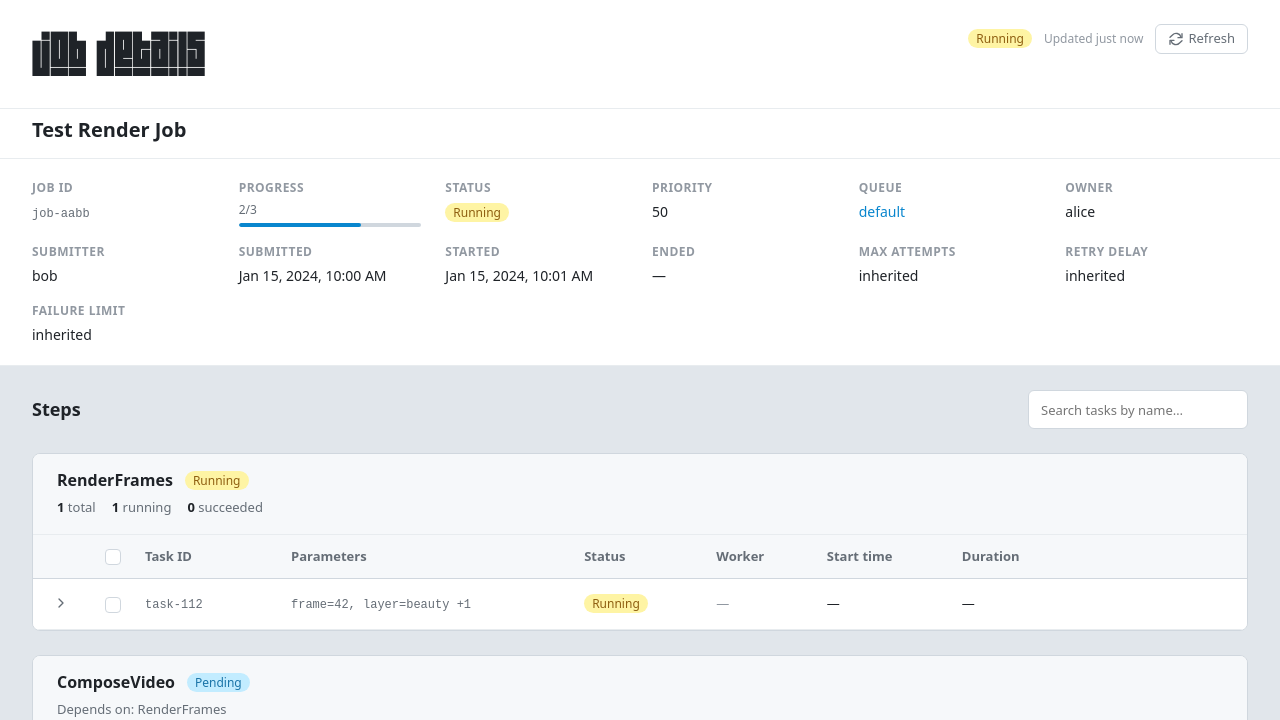
Test: JobDetail › task table › expands parameters on click
Click the button titled "Click to expand parameters": (381, 605) [291, 596, 471, 614]
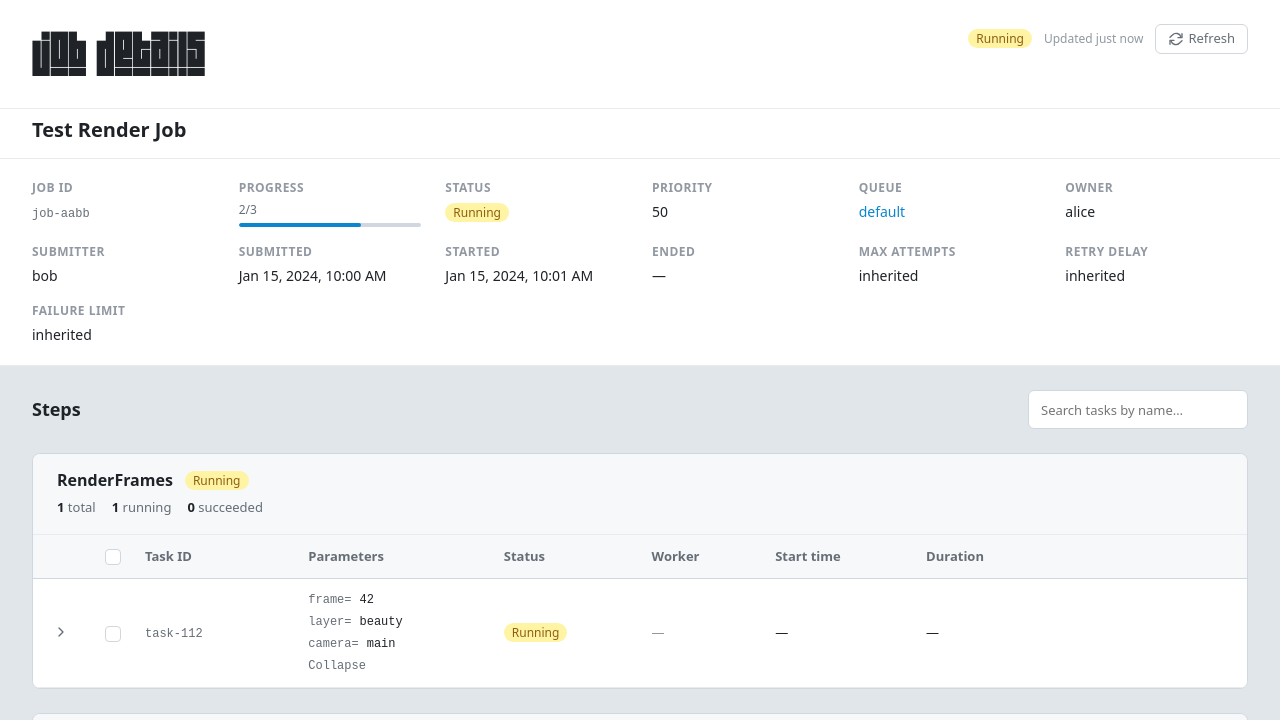
Expected: the text "frame" is shown, [308, 591, 352, 609]
Now the text "camera" is shown, box [308, 635, 359, 653]
